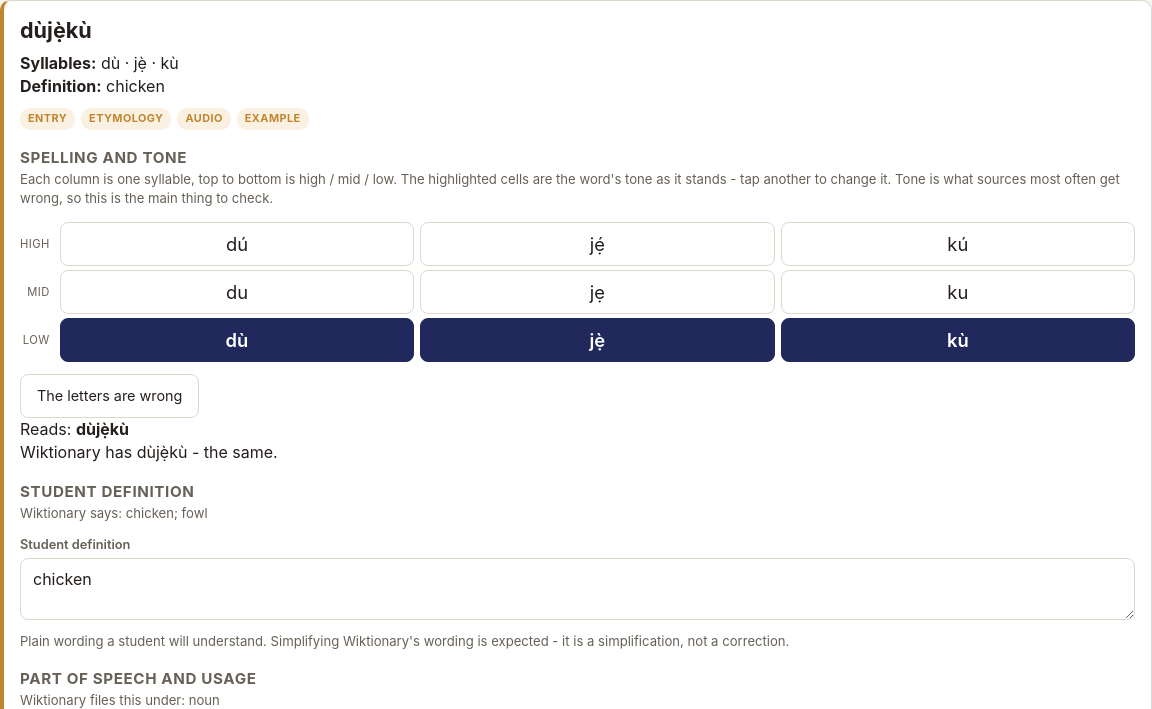
Test: correcting the letters › reveals a single letters field, seeded with the whole word
Expected: the element named "Tone editor" is shown, [20,170,1135,418]
Step 1. Click the button "The letters are wrong" → (110, 396), box [20,374,200,418]
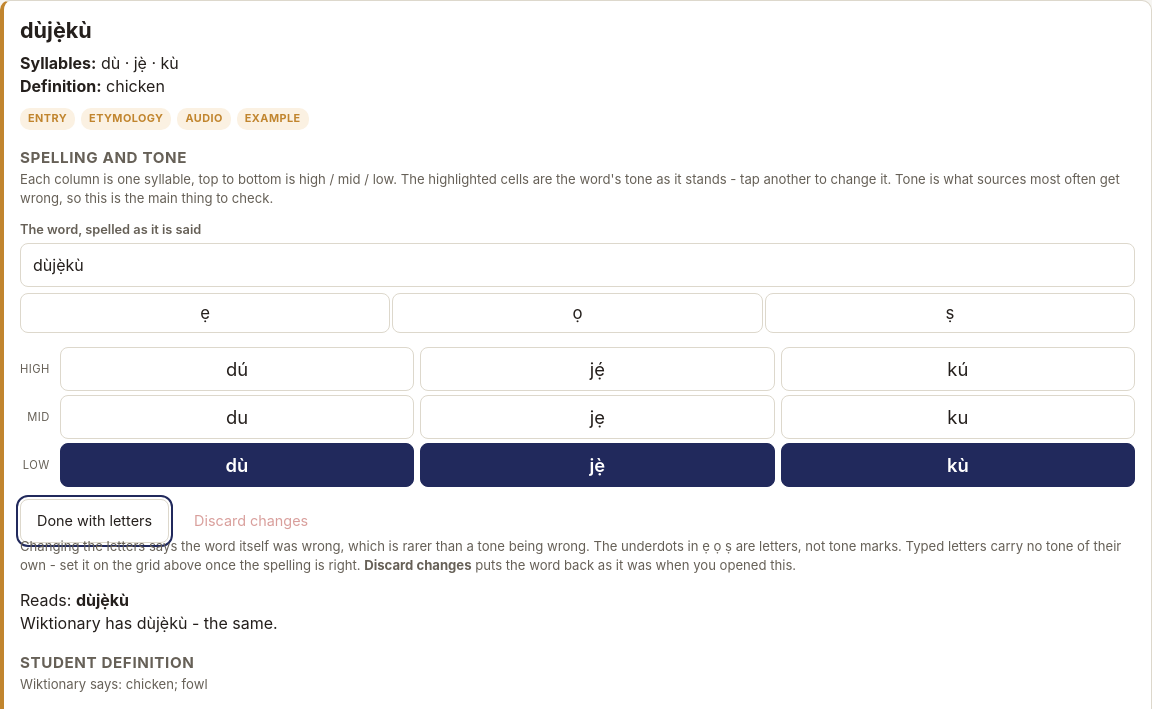
Now the field labelled "The word, spelled as it is said" holds "dùjẹ̀kù", box [20,243,1135,287]
